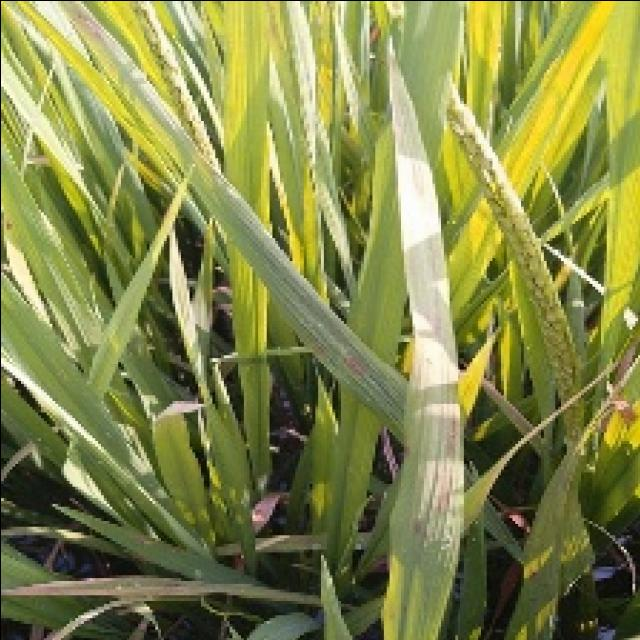Unhealthy: (518, 360, 614, 443), (481, 560, 520, 640), (482, 379, 532, 432), (606, 353, 640, 411), (612, 334, 640, 384), (607, 382, 637, 428), (428, 472, 451, 517), (407, 515, 446, 540), (444, 408, 459, 454), (505, 508, 531, 532), (528, 569, 538, 579)
